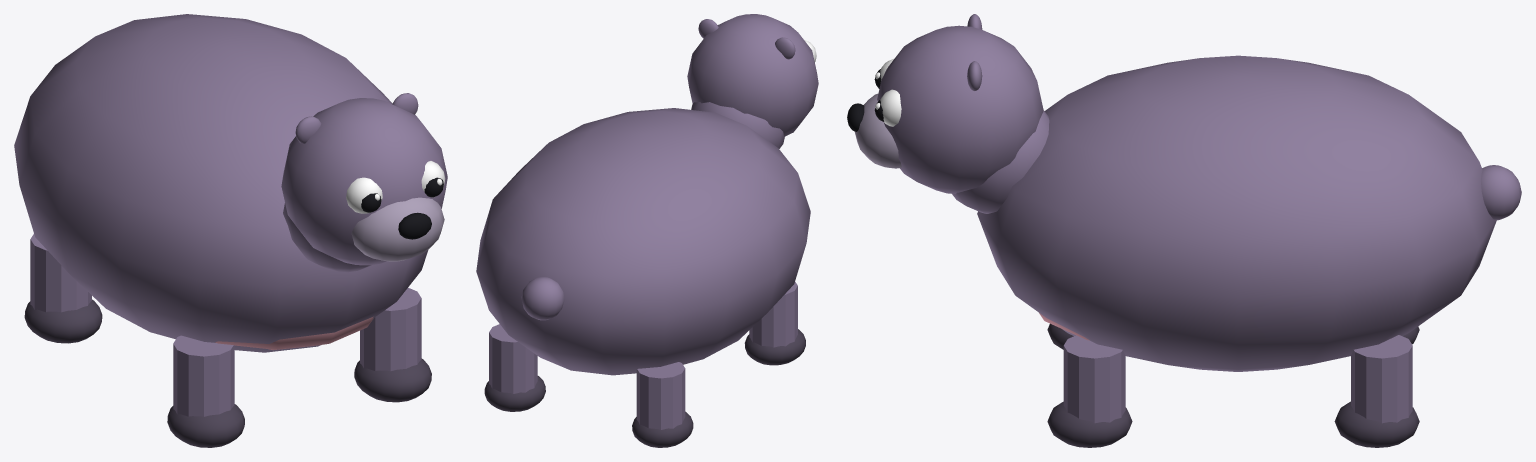
3 renders of one model, left to right at view 1: azimuth 30°, elevation 25°; view 2: azimuth 150°, elevation 25°; view 3: azimuth 270°, elevation 25°, orthographic. The views are drawn at different scales.
Visible parts, largest first — view 1: Hippo; view 2: Hippo; view 3: Hippo.
Part boxes in pixels (x1,y1,x2,y2): Hippo: (14, 14, 447, 447); Hippo: (476, 14, 818, 447); Hippo: (847, 14, 1521, 447).
Bounding box in the file's own units: 2.55 × 2.59 × 4.36.
1 material, 1 textured.
